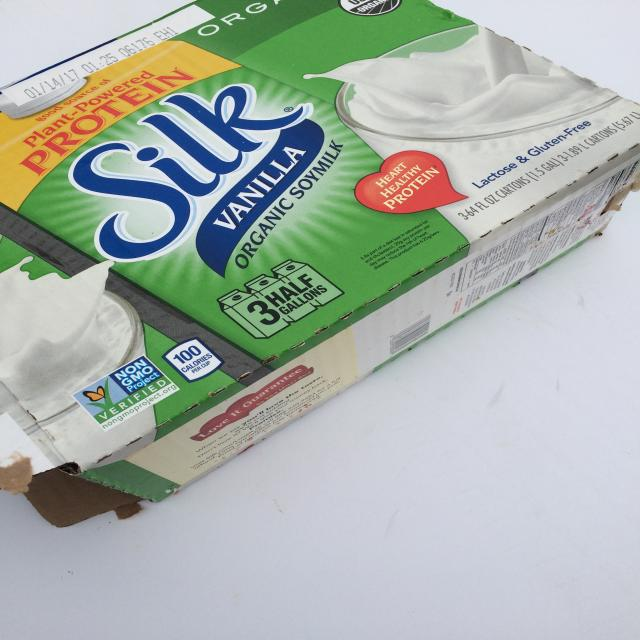cardboard: (0, 0, 640, 526)
